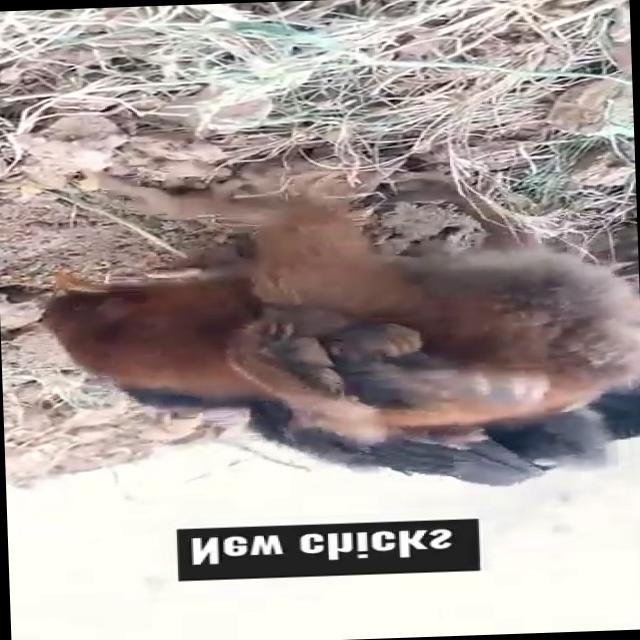stand bath: (26, 151, 640, 428)
